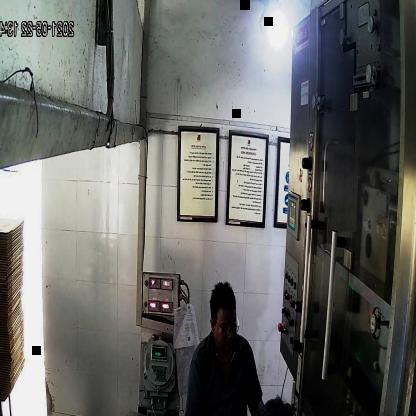goggles: (211, 316, 241, 342)
